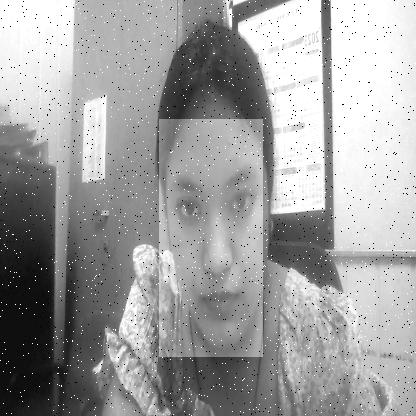Normal: (159, 119, 263, 357)
